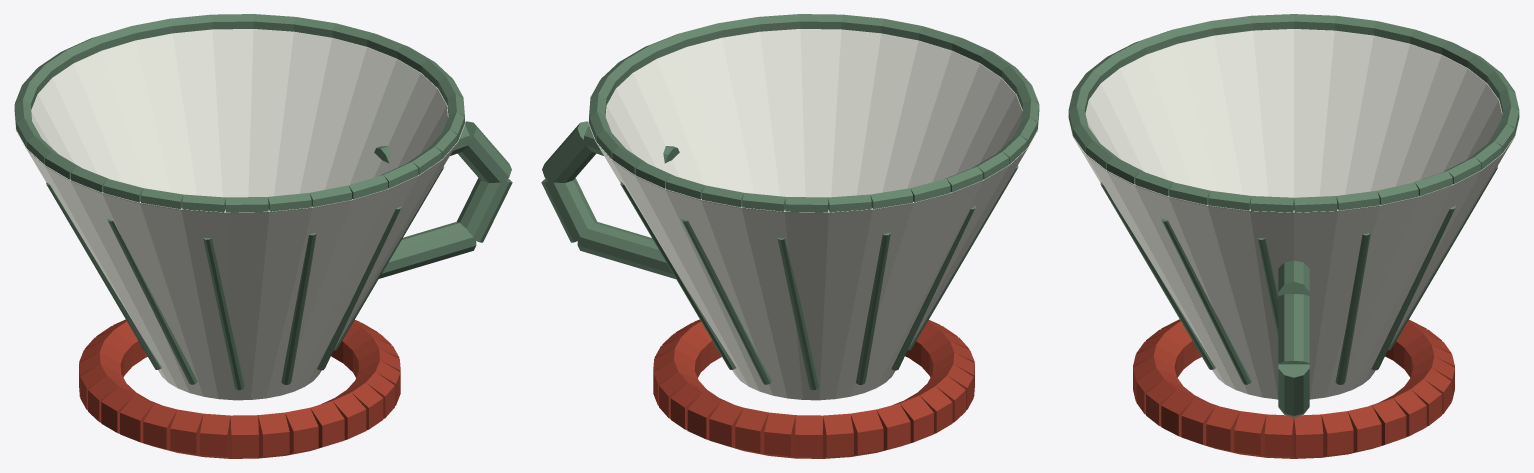
The model's file is dripper.glb.
The picture shows the model from 3 angles, left to right: view 1: azimuth 30°, elevation 25°; view 2: azimuth 150°, elevation 25°; view 3: azimuth 270°, elevation 25°; orthographic projection.
Parts seen in each view (by area): view 1: conical wall, handle3, handle2, handle1, flute40, flute30, flute50, support foot9, support foot11, support foot12, support foot10, support foot8 (+40 smaller); view 2: conical wall, handle3, handle2, handle1, flute80, flute70, flute90, support foot22, support foot20, support foot19, support foot21, support foot23 (+40 smaller); view 3: conical wall, handle1, handle2, flute110, flute10, support foot1, support foot30, support foot0, support foot31, support foot2, support foot29, flute100 (+42 smaller).
Part boxes in pixels (x1,y1,x2,y2): conical wall: [14, 29, 465, 400]; handle3: [379, 221, 476, 278]; handle2: [457, 178, 512, 242]; handle1: [457, 121, 511, 183]; flute40: [203, 237, 245, 390]; flute30: [281, 232, 316, 384]; flute50: [107, 219, 197, 384]; support foot9: [258, 412, 289, 458]; support foot11: [200, 413, 230, 458]; support foot12: [170, 409, 203, 456]; support foot10: [230, 415, 258, 458]; support foot8: [285, 407, 318, 455]; conical wall: [588, 29, 1039, 400]; handle3: [577, 221, 675, 278]; handle2: [541, 178, 596, 242]; handle1: [542, 121, 596, 183]; flute80: [777, 238, 819, 390]; flute70: [856, 232, 890, 384]; flute90: [681, 219, 771, 384]; support foot22: [764, 412, 795, 458]; support foot20: [823, 413, 853, 458]; support foot19: [850, 409, 883, 456]; support foot21: [795, 415, 823, 458]; support foot23: [735, 407, 768, 455]; conical wall: [1068, 29, 1519, 399]; handle1: [1278, 294, 1309, 364]; handle2: [1278, 364, 1309, 415]; flute110: [1335, 233, 1370, 384]; flute10: [1161, 219, 1251, 384]; support foot1: [1234, 411, 1266, 457]; support foot30: [1321, 411, 1353, 457]; support foot0: [1264, 414, 1293, 458]; support foot31: [1294, 414, 1323, 458]; support foot2: [1206, 405, 1239, 454]; support foot29: [1348, 405, 1381, 454]; flute100: [1371, 205, 1455, 370].
Size of the model in its own units: 1.57 by 0.947 by 1.32.
